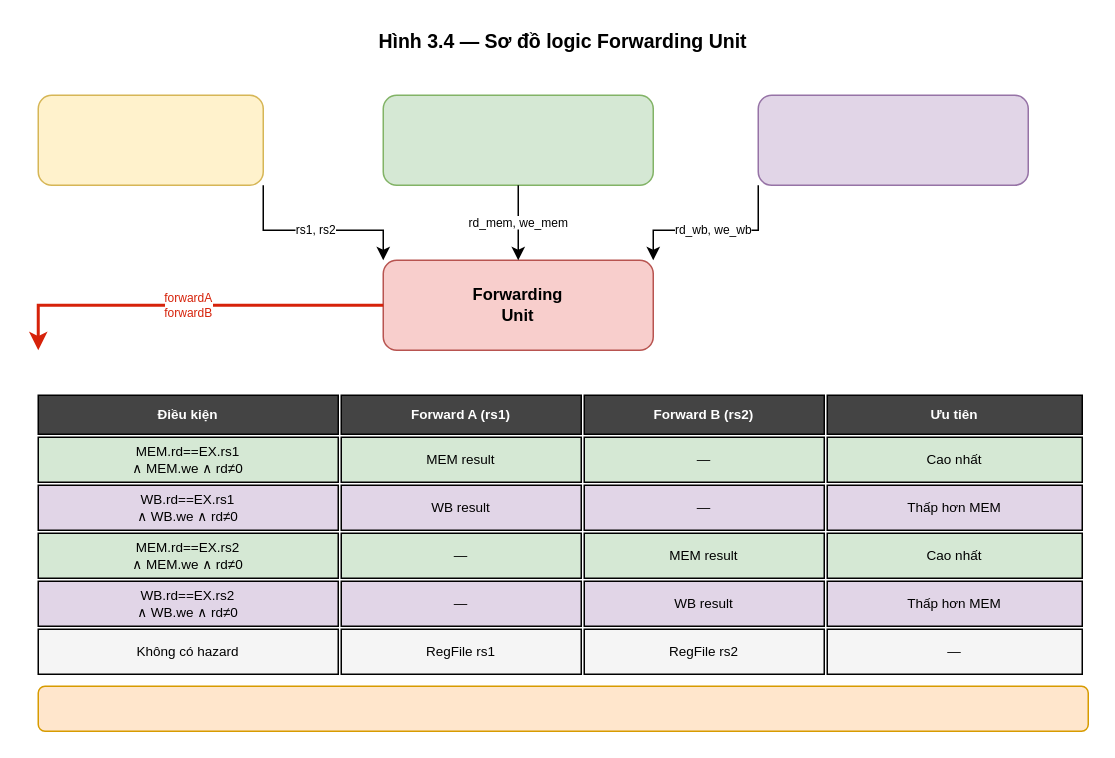
This 1115x758 diagram has some shape labels left out. The centre of each missing label's shape, as x and y in pixels:
"EX stage (rs1, rs2)" belongs at [150,139].
"MEM stage (rd_mem, result_mem)" belongs at [517,139].
"WB stage (rd_wb, result_wb)" belongs at [892,139].
"⚠ rd=x0 luôn bị loại: ghi vào x0 không có ý nghĩa → không forward" belongs at [562,708].
